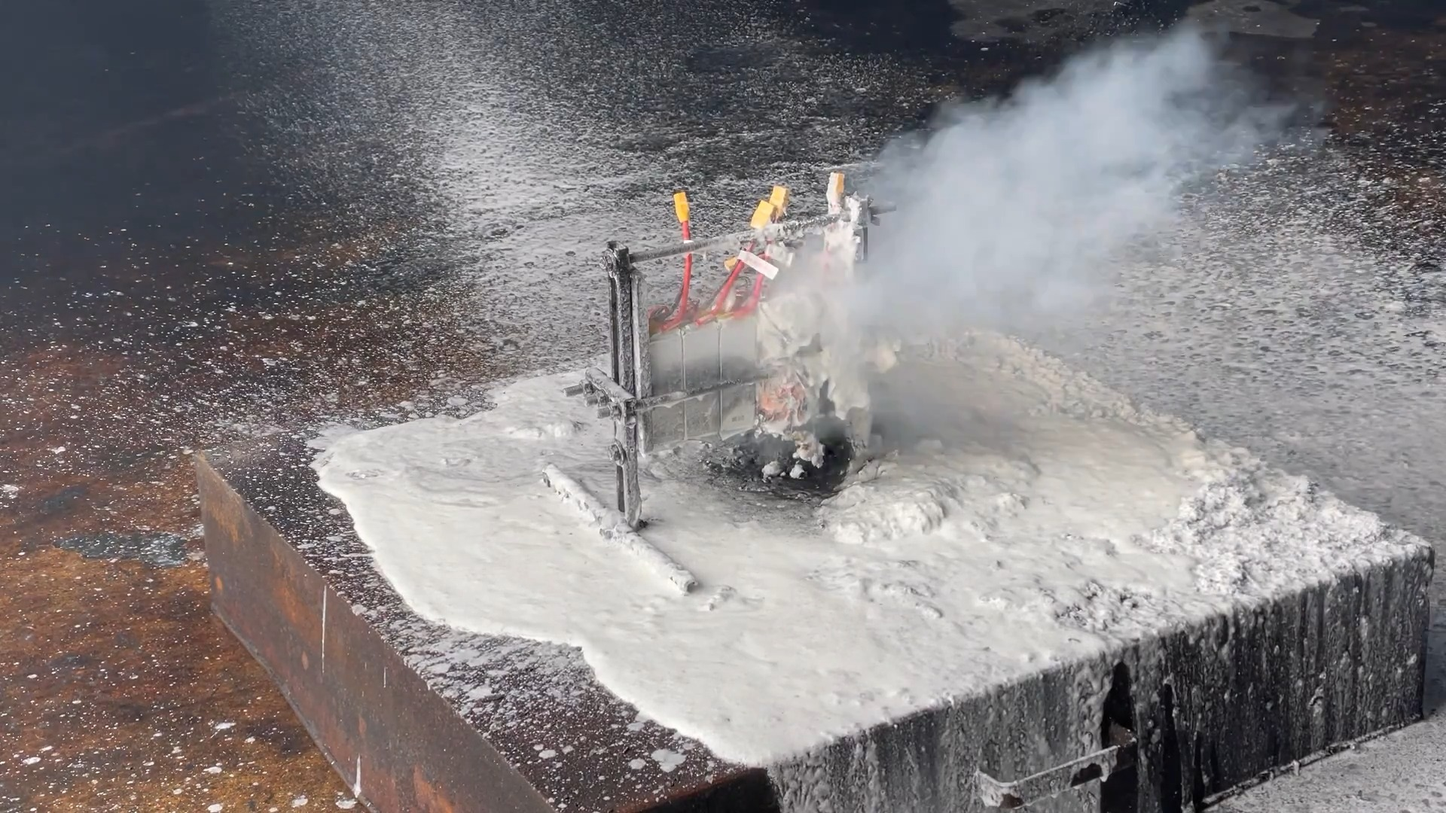smoke: (762, 15, 1310, 465)
